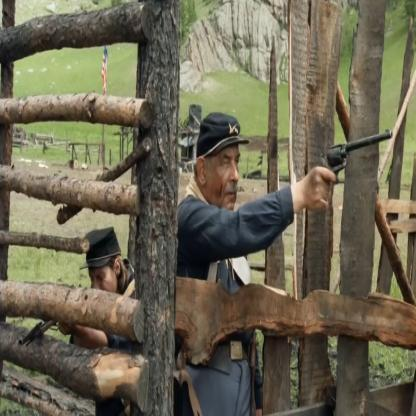gun: (315, 110, 398, 184)
